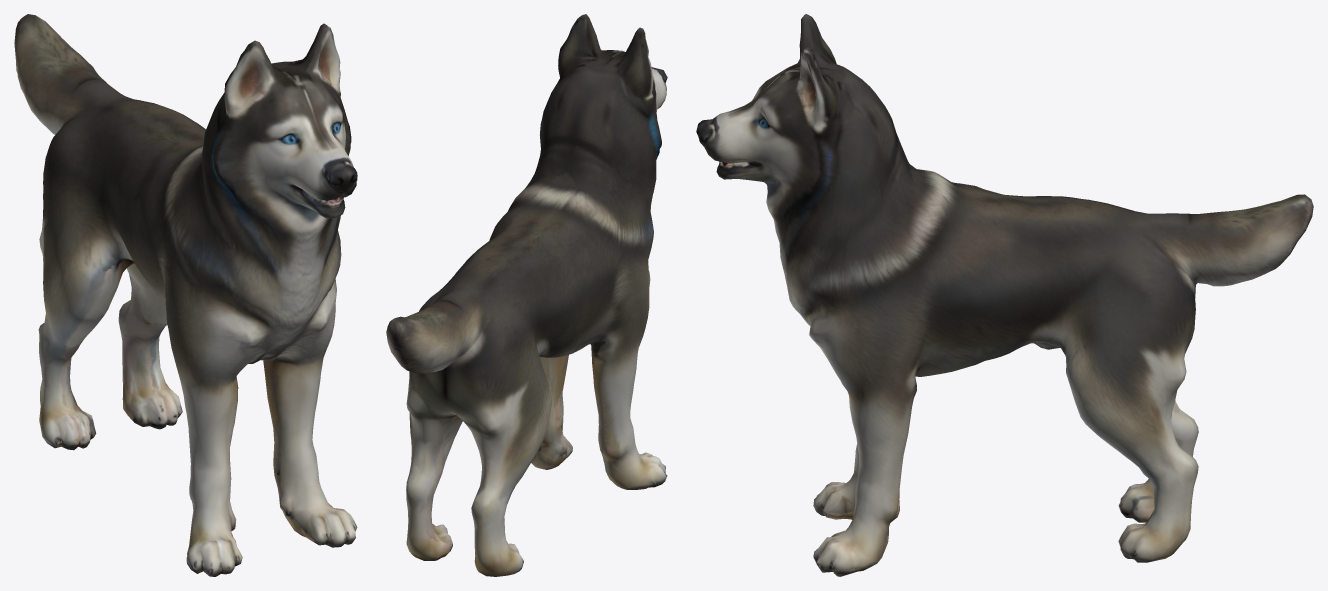
File: cachorroEpiderme.glb
3 views of the same model, side by side, from view 1: azimuth 30°, elevation 25°; view 2: azimuth 150°, elevation 25°; view 3: azimuth 270°, elevation 25° (orthographic). The views are drawn at different scales.
Visible parts, largest first — view 1: Mesh1.0; view 2: Mesh1.0; view 3: Mesh1.0.
Part boxes in pixels (x1,y1,x2,y2): Mesh1.0: (14,14,357,576); Mesh1.0: (386,14,667,576); Mesh1.0: (696,14,1313,576).
Bounding box in the file's own units: 0.5579 × 1.74 × 1.91.
Materials: 1 (1 with a texture image).
